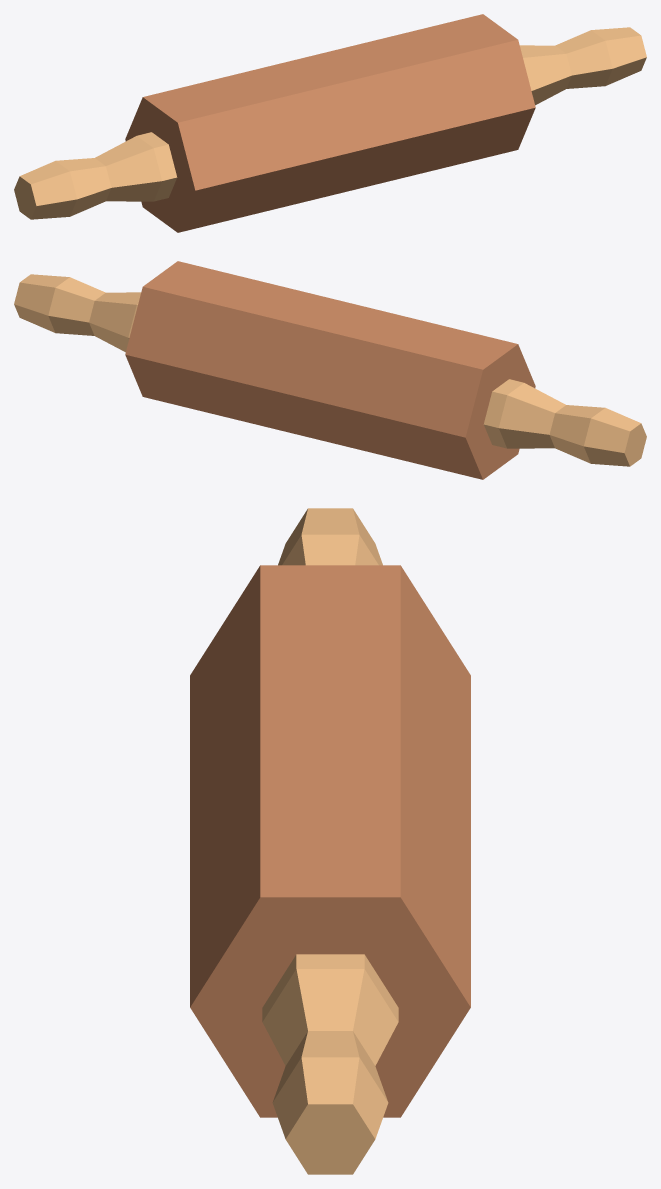
The model's file is rollingPin.fbx.
3 renders of one model, top to bottom at view 1: azimuth 30°, elevation 25°; view 2: azimuth 150°, elevation 25°; view 3: azimuth 270°, elevation 25°, orthographic. The views are drawn at different scales.
Visible parts, largest first — view 1: rollingPin; view 2: rollingPin; view 3: rollingPin.
Boxes of the visible parts, bbox=[...] form: rollingPin: bbox=[14, 14, 646, 232]; rollingPin: bbox=[14, 261, 646, 479]; rollingPin: bbox=[190, 508, 470, 1174].
Size of the model in its own units: 8.14 by 1.4 by 1.62.
